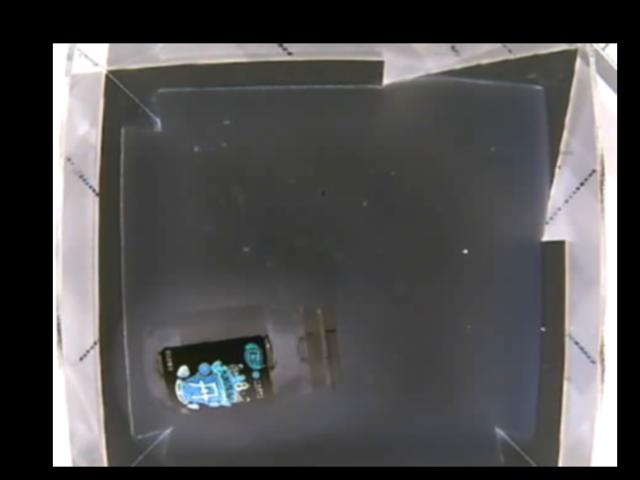Bottle: (142, 302, 342, 416)
